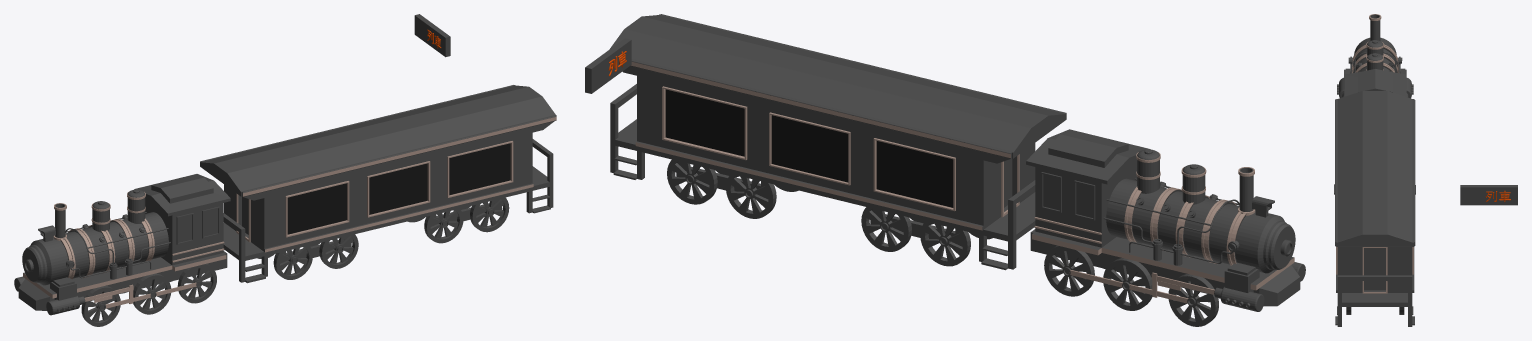
The model's file is portfolio-finished-train.glb.
The picture shows the model from 3 angles, left to right: view 1: azimuth 30°, elevation 25°; view 2: azimuth 150°, elevation 25°; view 3: azimuth 270°, elevation 25°; orthographic projection. The views are drawn at different scales.
Visible parts, largest first — view 1: Train, ScreenTrain, ScreenTrain3, ScreenTrain2, TrainSign; view 2: Train, ScreenTrain4, ScreenTrain5, ScreenTrain6, TrainSign; view 3: Train, TrainSign.
Boxes of the visible parts, bbox=[...] form: Train: bbox=[14, 85, 556, 326]; ScreenTrain: bbox=[449, 143, 510, 195]; ScreenTrain3: bbox=[287, 183, 346, 234]; ScreenTrain2: bbox=[369, 163, 427, 214]; TrainSign: bbox=[414, 14, 450, 57]; Train: bbox=[609, 14, 1305, 326]; ScreenTrain4: bbox=[665, 89, 744, 156]; ScreenTrain5: bbox=[771, 115, 848, 182]; ScreenTrain6: bbox=[876, 141, 953, 207]; TrainSign: bbox=[585, 38, 631, 93]; Train: bbox=[1334, 14, 1415, 326]; TrainSign: bbox=[1460, 185, 1517, 205].
Bounding box in the file's own units: 20.22 × 5.52 × 6.79.
